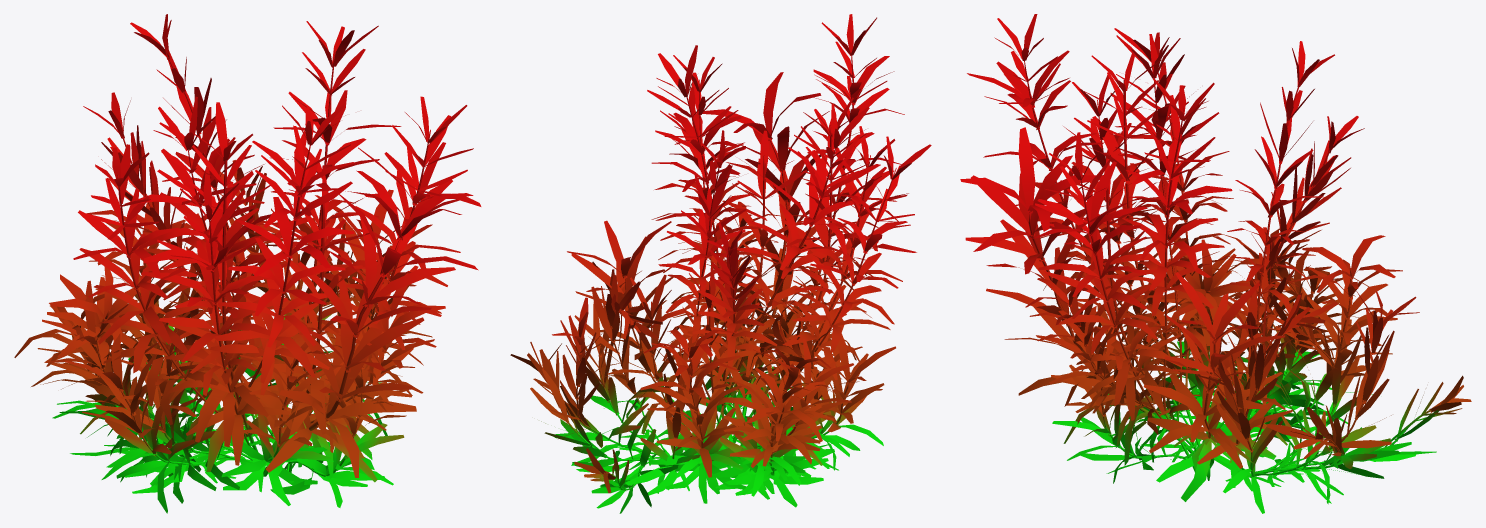
File: Var5_LOD2.fbx
The picture shows the model from 3 angles, left to right: view 1: azimuth 30°, elevation 25°; view 2: azimuth 150°, elevation 25°; view 3: azimuth 270°, elevation 25°; orthographic projection. The views are drawn at different scales.
Visible parts, largest first — view 1: _zfsa_Var5_LOD2; view 2: _zfsa_Var5_LOD2; view 3: _zfsa_Var5_LOD2.
Part boxes in pixels (x1,y1,x2,y2): _zfsa_Var5_LOD2: [14, 14, 481, 513]; _zfsa_Var5_LOD2: [510, 14, 931, 513]; _zfsa_Var5_LOD2: [960, 14, 1471, 513].
Bounding box in the file's own units: 27.07 × 30.04 × 32.77.
